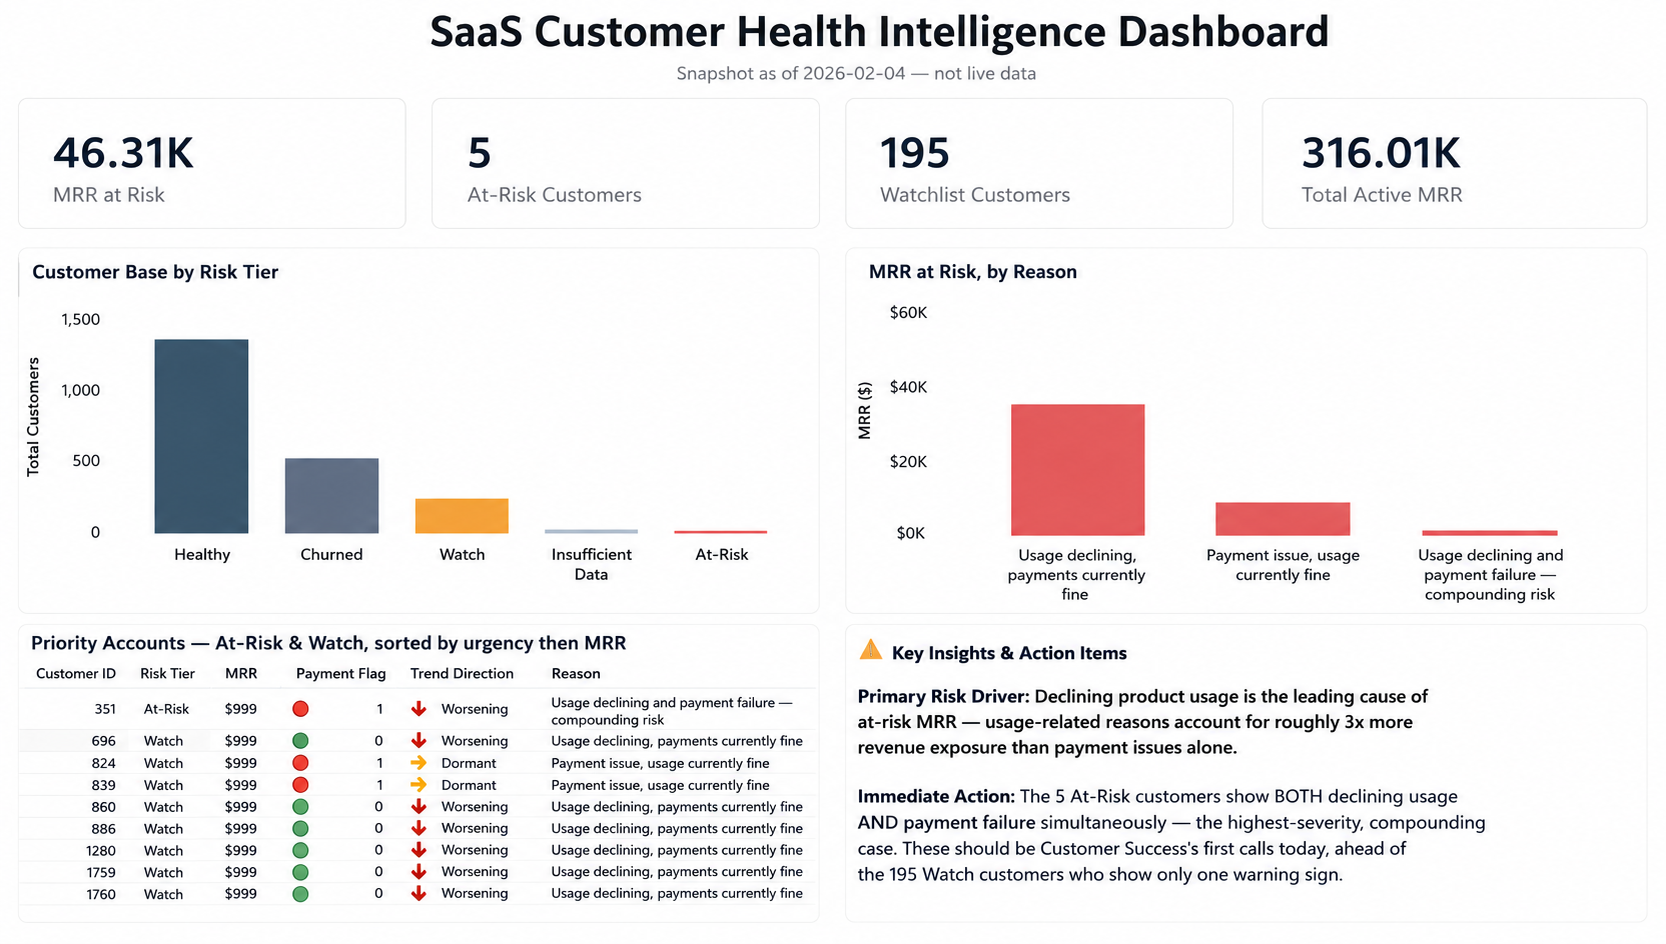

What the dashboard file says about the page in this screenshot:
{"tool":"powerbi","page":{"name":"SaaS Customer Health Intelligence Dashboard ","canvas":[1280,720],"ordinal":0},"visuals":[{"type":"cardVisual","fields":{"Data":["public final_output.Total_MRR_At_Risk"]},"box":[0,65.7,320,140],"z":0},{"type":"columnChart","title":"Customer Base by Risk Tier","fields":{"Category":["public final_output.risk_tier"],"Y":["CountNonNull(public final_output.risk_tier)"]},"box":[0,205.7,640,271.4],"z":1000},{"type":"columnChart","title":"MRR at Risk, by Reason","fields":{"Category":["public final_output.reason"],"Y":["Sum(public final_output.mrr)"]},"box":[640,205.7,640,260],"z":2000},{"type":"tableEx","title":"Priority Accounts — At-Risk & Watch, sorted by urgency then MRR","fields":{"Values":["public final_output.customer_id","public final_output.risk_tier","public final_output.mrr","public final_output.payment_flag","public final_output.trend_direction","public final_output.reason"]},"box":[0,477.1,640,242.9],"z":3000},{"type":"cardVisual","fields":{"Data":["public final_output.At_Risk_Customer_Count"]},"box":[320,65.7,320,140],"z":4000},{"type":"cardVisual","fields":{"Data":["public final_output.Watch_Customer_Count"]},"box":[640,65.7,320,140],"z":5000},{"type":"cardVisual","fields":{"Data":["public final_output.TotalActive_MRR"]},"box":[960,65.7,320,155.7],"z":6000},{"type":"textbox","box":[640,477.1,640,242.9],"z":7000},{"type":"textbox","box":[0,0,1280.4,80],"z":8000}]}

Visuals, with their boxes in screenshot pixels (x1, y1, x2, y2), scaled from the page's 1280x720 canvas onto the 1666x944 screenshot:
cardVisual - public final_output.Total_MRR_At_Risk: bbox=[0, 86, 416, 270]
"Customer Base by Risk Tier" columnChart: bbox=[0, 270, 833, 626]
"MRR at Risk, by Reason" columnChart: bbox=[833, 270, 1665, 611]
"Priority Accounts — At-Risk & Watch, sorted by urgency then MRR" tableEx: bbox=[0, 626, 833, 943]
cardVisual - public final_output.At_Risk_Customer_Count: bbox=[416, 86, 833, 270]
cardVisual - public final_output.Watch_Customer_Count: bbox=[833, 86, 1250, 270]
cardVisual - public final_output.TotalActive_MRR: bbox=[1250, 86, 1665, 290]
textbox: bbox=[833, 626, 1665, 943]
textbox: bbox=[0, 0, 1665, 105]
